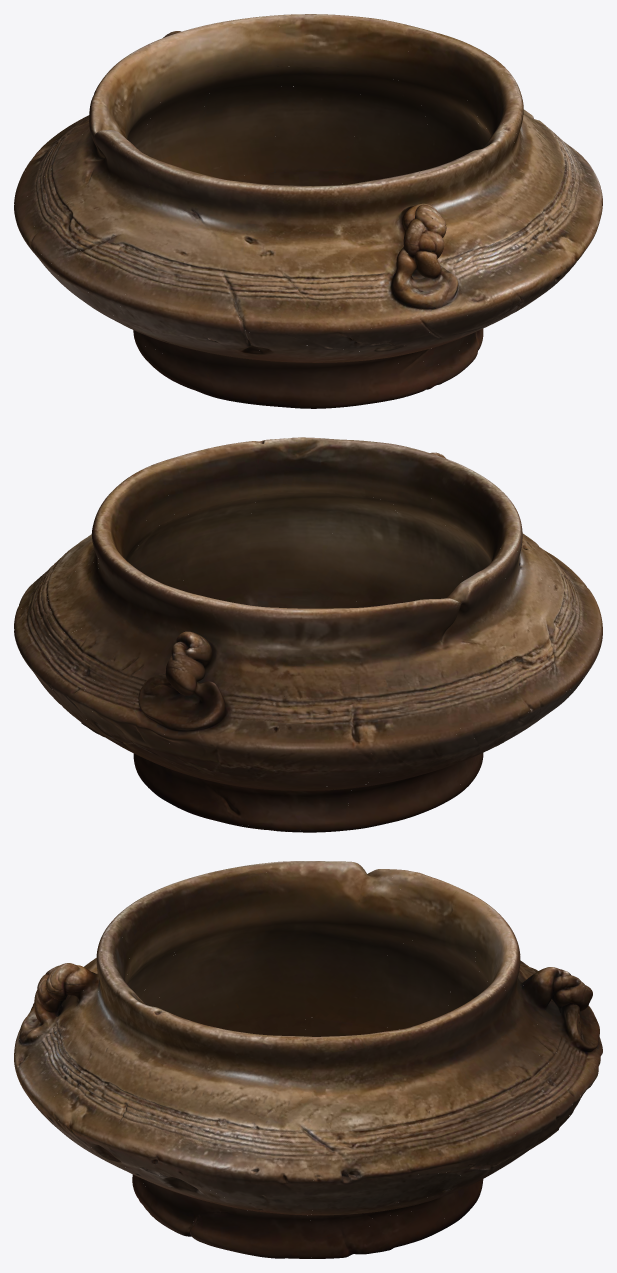
Rendered from han-jin-original-celadon-zeng-web.glb.
3 views of the same model, one above another, from view 1: azimuth 30°, elevation 25°; view 2: azimuth 150°, elevation 25°; view 3: azimuth 270°, elevation 25° (orthographic).
Parts seen in each view (by area): view 1: tripo_node_7ef343c1-cb4c-4872-a417-953c0a459125; view 2: tripo_node_7ef343c1-cb4c-4872-a417-953c0a459125; view 3: tripo_node_7ef343c1-cb4c-4872-a417-953c0a459125.
Part boxes in pixels (left/top/right/bottom): tripo_node_7ef343c1-cb4c-4872-a417-953c0a459125: left=14, top=14, right=602, bottom=408; tripo_node_7ef343c1-cb4c-4872-a417-953c0a459125: left=14, top=437, right=602, bottom=832; tripo_node_7ef343c1-cb4c-4872-a417-953c0a459125: left=14, top=861, right=602, bottom=1258.
Bounding box in the file's own units: 0.9776 × 0.4413 × 0.9805.
1 material, 1 textured.
